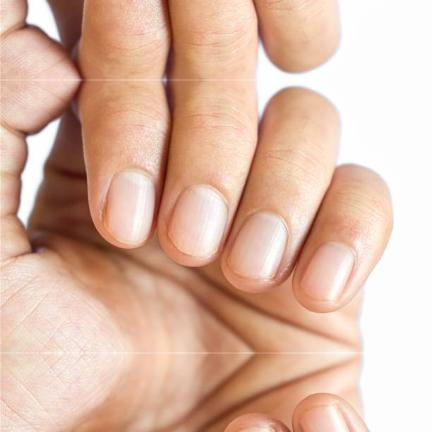Nail: (168, 185, 228, 257), (227, 211, 288, 278), (104, 171, 157, 244), (299, 240, 354, 300), (299, 405, 351, 432), (238, 428, 276, 432)
